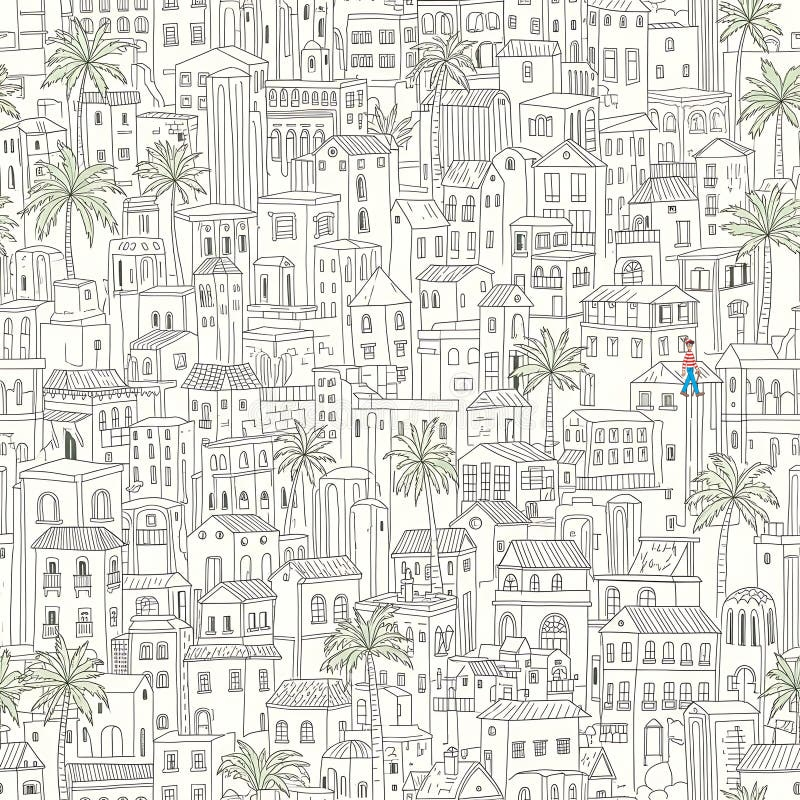waldo: (680, 338, 705, 397)
